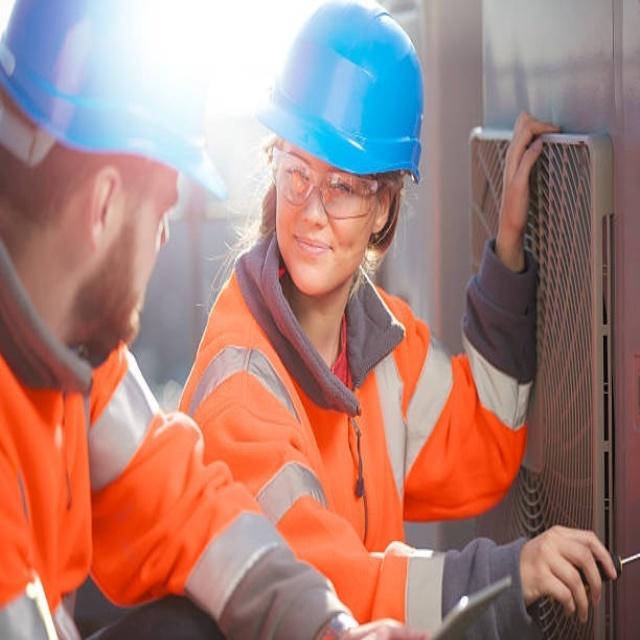Gafas: (268, 141, 387, 221)
Sin_gafas: (109, 177, 183, 248)
Sin_guantes: (518, 524, 619, 624), (496, 102, 564, 249), (327, 615, 431, 640)
Sin_mascara: (105, 256, 158, 342), (287, 224, 341, 284)
